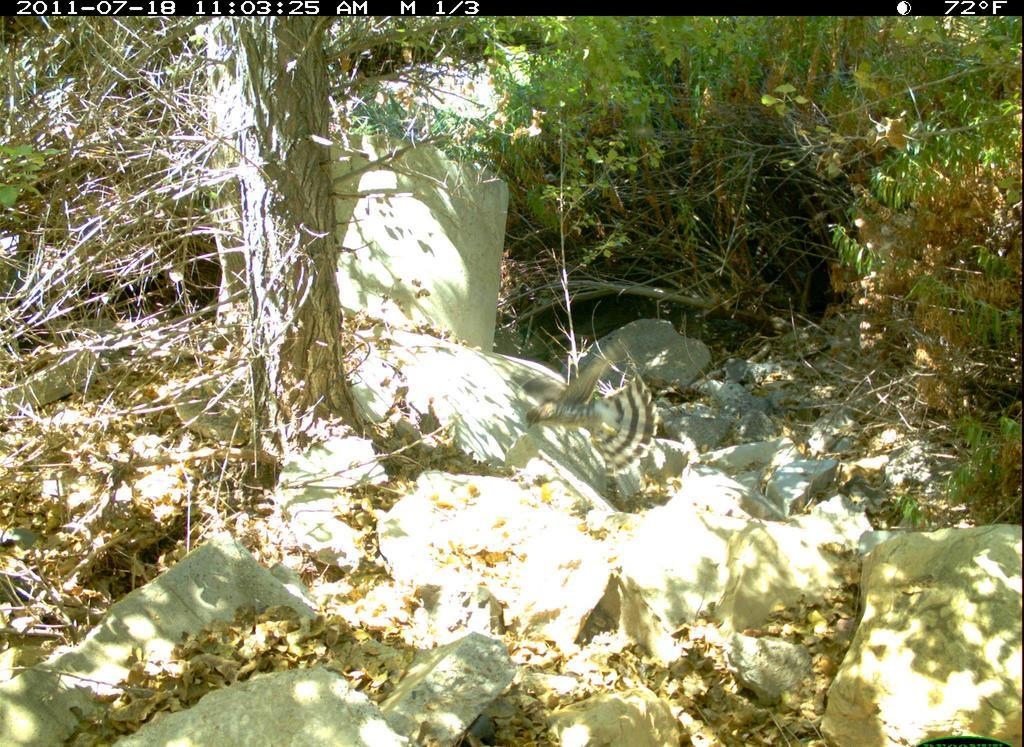bird: (527, 346, 674, 486)
